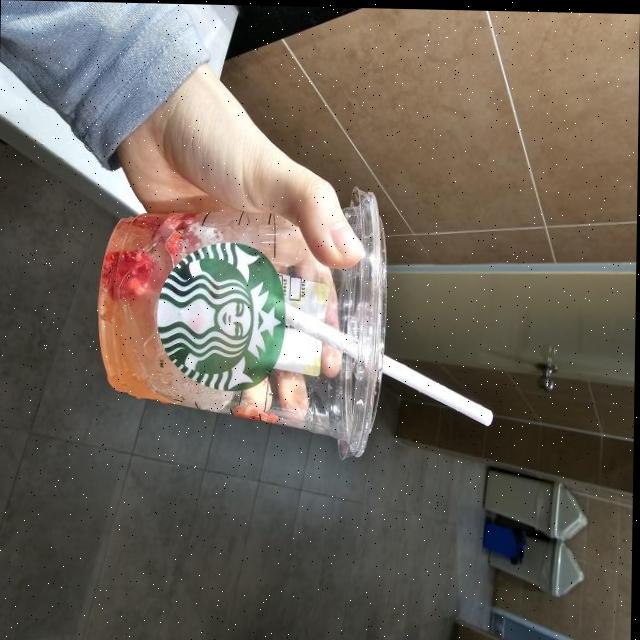cup: (89, 165, 398, 464)
